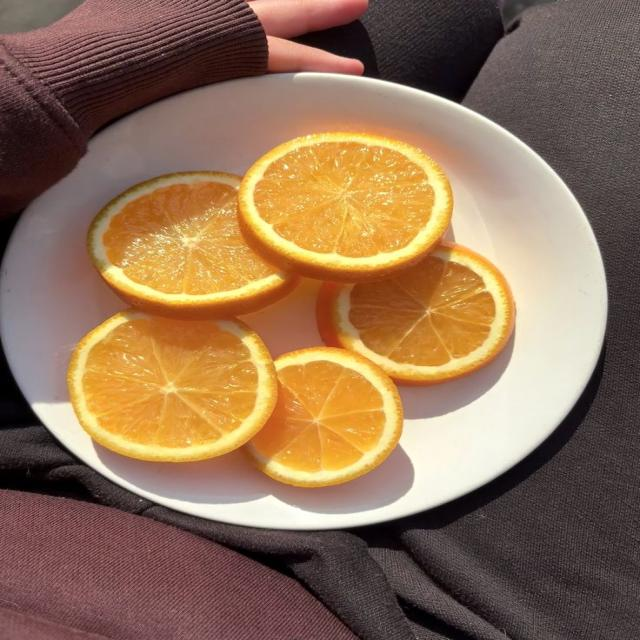orange: (239, 133, 452, 281), (68, 311, 277, 461), (88, 172, 295, 319), (318, 244, 514, 384), (245, 348, 402, 486)
